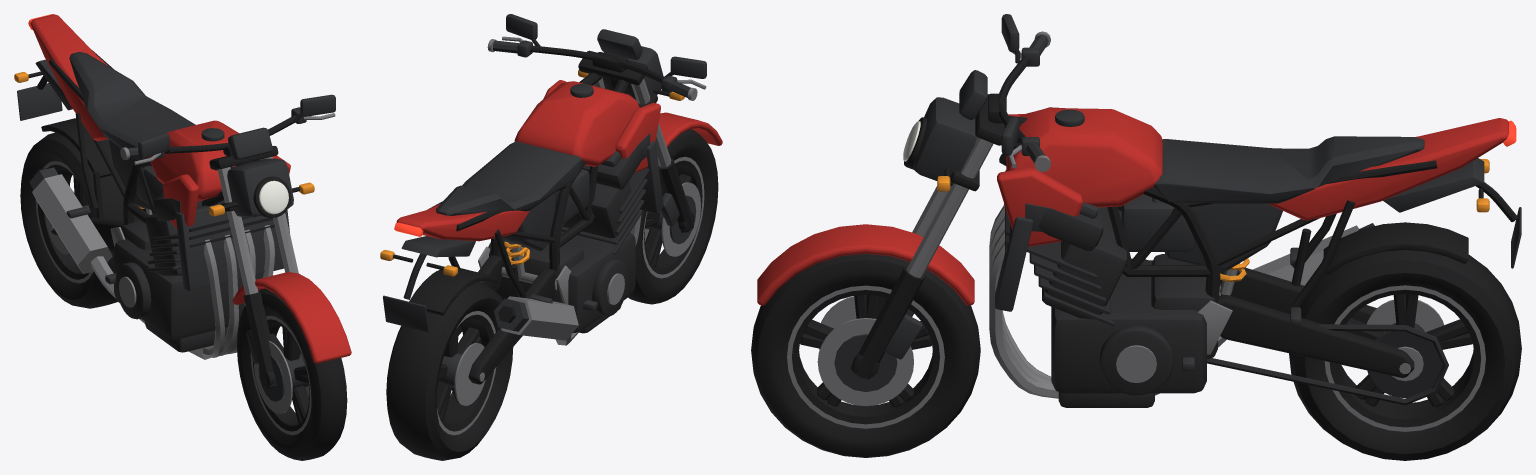
Rendered from Motorcycle.fbx.
3 renders of one model, left to right at view 1: azimuth 30°, elevation 25°; view 2: azimuth 150°, elevation 25°; view 3: azimuth 270°, elevation 25°, orthographic. The views are drawn at different scales.
Parts seen in each view (by area): view 1: Motorcycle_Mesh; view 2: Motorcycle_Mesh; view 3: Motorcycle_Mesh.
Part boxes in pixels (box(x1,y1,x2,y2)): Motorcycle_Mesh: box(14, 14, 351, 460); Motorcycle_Mesh: box(380, 14, 722, 460); Motorcycle_Mesh: box(751, 14, 1521, 460).
Bounding box in the file's own units: 0.804 × 1.13 × 2.08.
